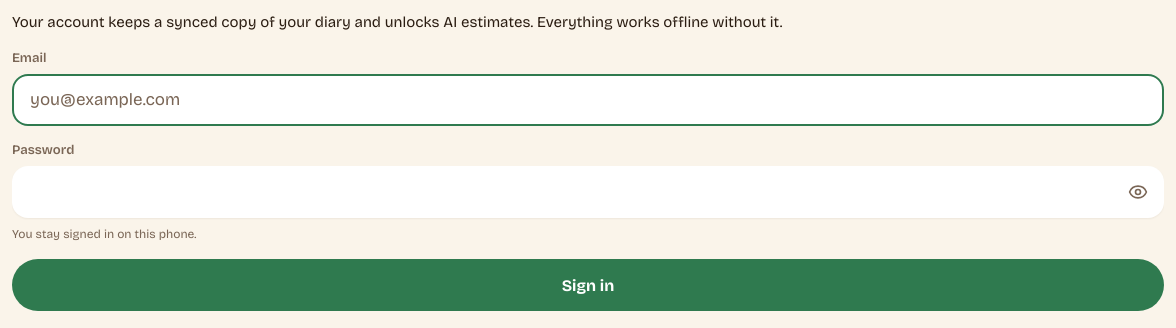
Scenario: SignInPanel › shows and hides the password
The width and height of the screenshot is (1176, 328).
Type "correct horse battery staple" into the password field labelled "Password".
click(575, 192); type("correct horse battery staple")  # box [28,166,1122,218]
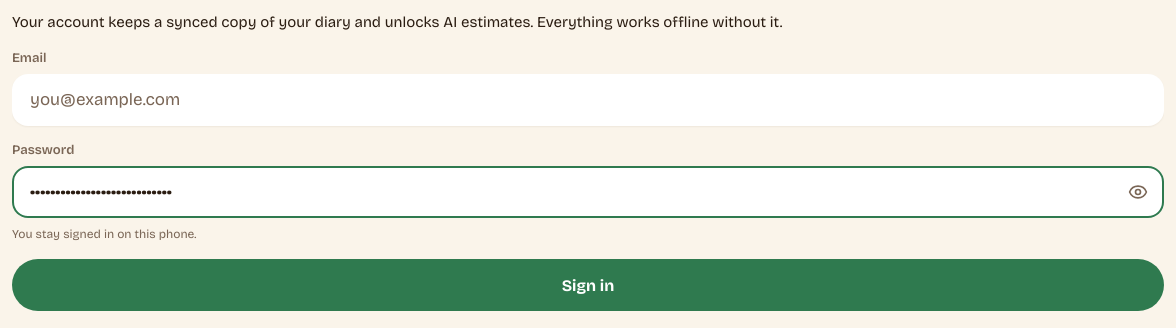
Click the button named "Show password".
click(1138, 192)  # box [1122,176,1154,208]
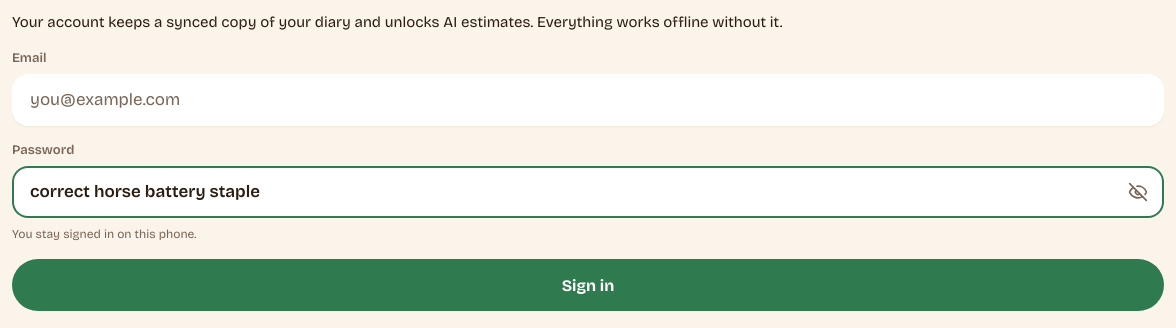
Expected: the field labelled "Password" shows its text, [28,166,1122,218]
Click the button named "Hide password".
click(1138, 192)  # box [1122,176,1154,208]
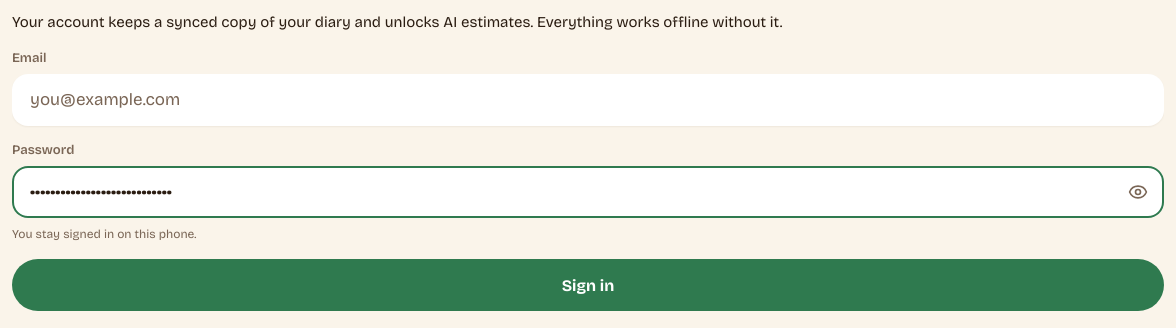
Expected: the password field labelled "Password" hides its text, [28,166,1122,218]
